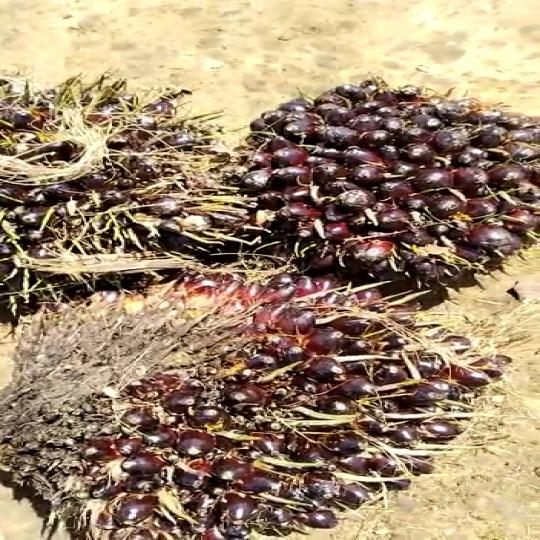mentah: (0, 261, 515, 540), (216, 70, 540, 284), (0, 56, 236, 298)
